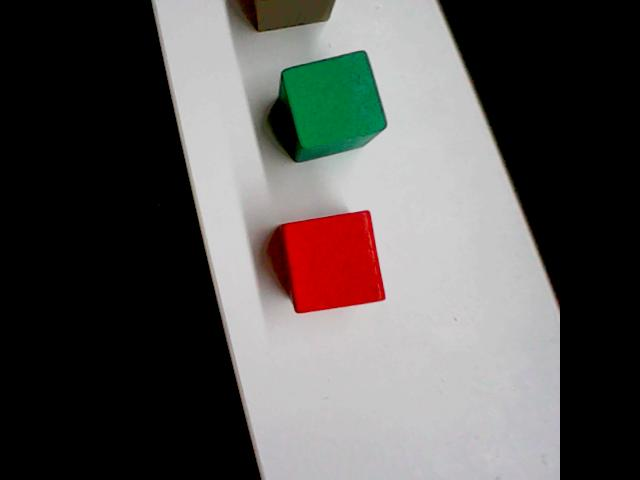green_box: (275, 48, 390, 164)
raw_box: (235, 0, 343, 36)
red_box: (277, 206, 390, 317)
